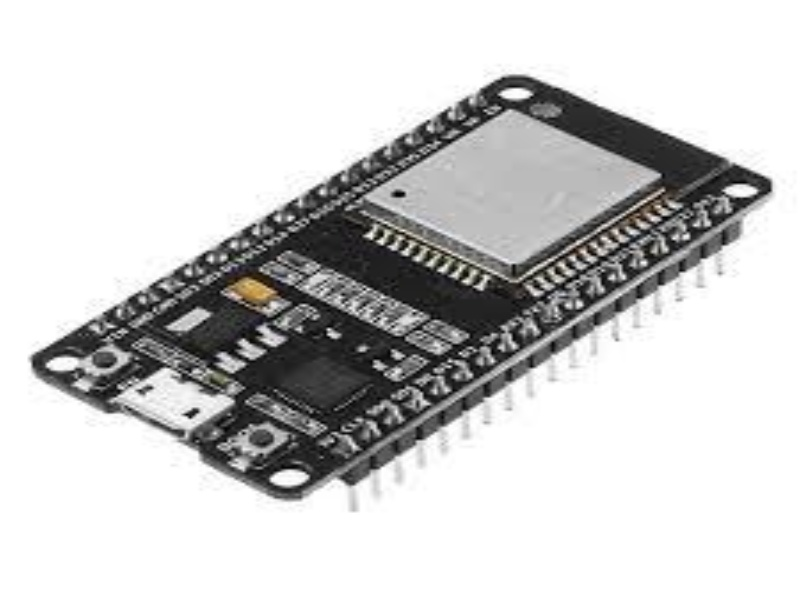esp32: (25, 53, 777, 516)
